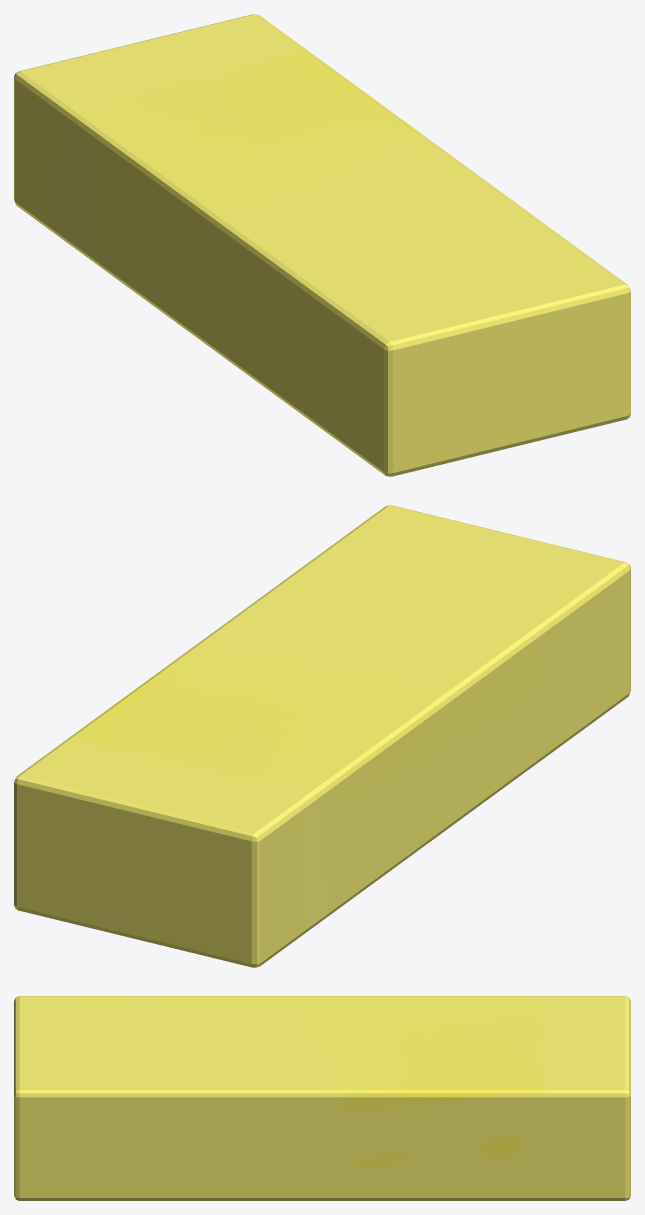
File: MissingKey4.fbx
3 views of the same model, one above another, from view 1: azimuth 30°, elevation 25°; view 2: azimuth 150°, elevation 25°; view 3: azimuth 270°, elevation 25° (orthographic). The views are drawn at different scales.
Visible parts, largest first — view 1: Keys.009; view 2: Keys.009; view 3: Keys.009.
Part boxes in pixels (left/top/right/bottom): Keys.009: left=14, top=14, right=630, bottom=476; Keys.009: left=14, top=505, right=630, bottom=967; Keys.009: left=14, top=996, right=630, bottom=1200.
Bounding box in the file's own units: 84.46 × 44.19 × 223.
